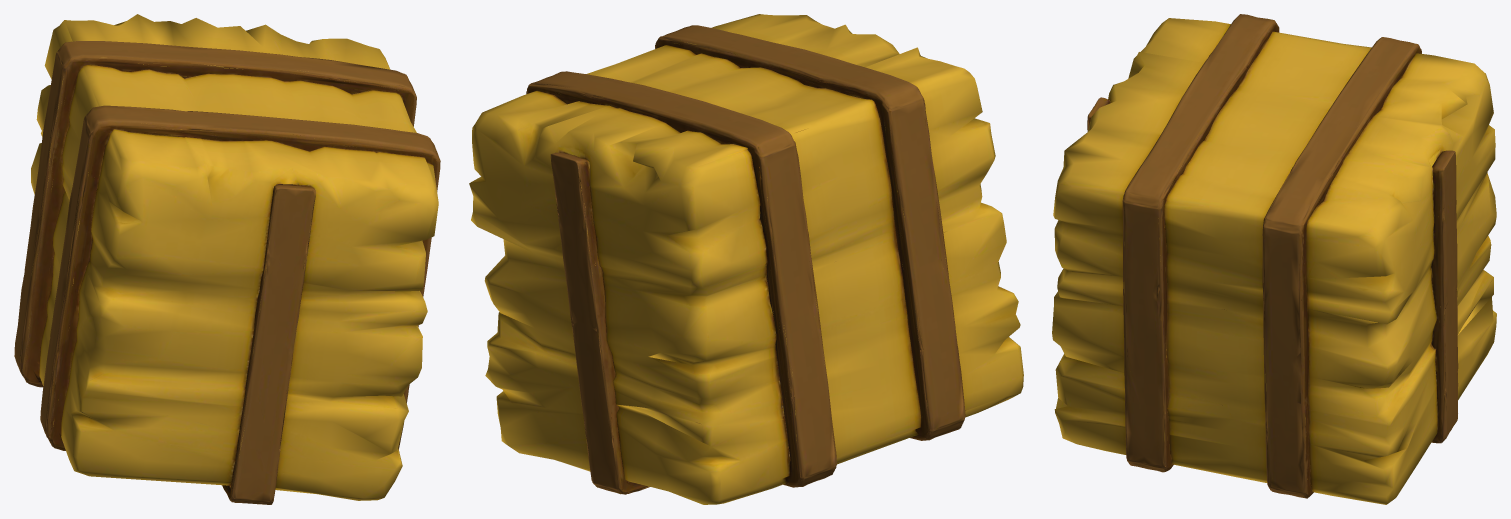
The picture shows the model from 3 angles, left to right: view 1: azimuth 30°, elevation 25°; view 2: azimuth 150°, elevation 25°; view 3: azimuth 270°, elevation 25°; orthographic projection. The views are drawn at different scales.
Visible parts, largest first — view 1: tripo_node_ec43415f-599b-4a88-8d96-75d9734c38de; view 2: tripo_node_ec43415f-599b-4a88-8d96-75d9734c38de; view 3: tripo_node_ec43415f-599b-4a88-8d96-75d9734c38de.
Boxes of the visible parts, left/top/right/bottom form: tripo_node_ec43415f-599b-4a88-8d96-75d9734c38de: left=14, top=14, right=440, bottom=504; tripo_node_ec43415f-599b-4a88-8d96-75d9734c38de: left=469, top=14, right=1023, bottom=504; tripo_node_ec43415f-599b-4a88-8d96-75d9734c38de: left=1052, top=14, right=1496, bottom=504.
Size of the model in its own units: 0.3544 by 0.3 by 0.3444.
Materials: 1 (1 with a texture image).
